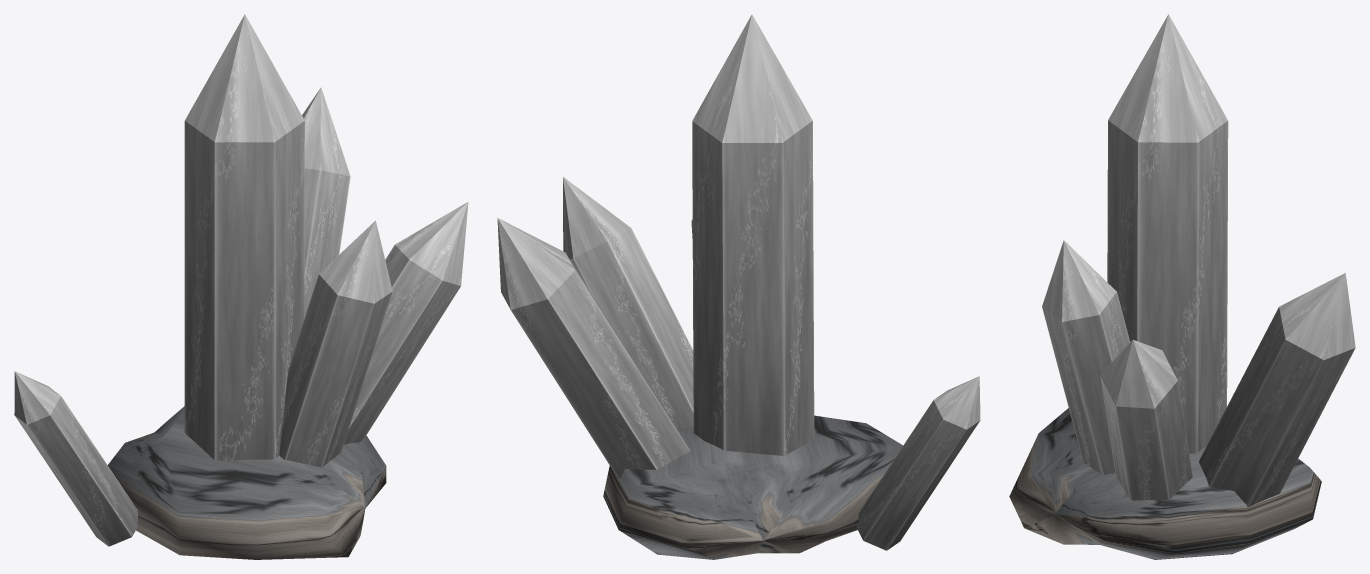
The model's file is rock_crystal_l1.gltf.
The picture shows the model from 3 angles, left to right: view 1: azimuth 30°, elevation 25°; view 2: azimuth 150°, elevation 25°; view 3: azimuth 270°, elevation 25°; orthographic projection.
Visible parts, largest first — view 1: rock_crystal_l1; view 2: rock_crystal_l1; view 3: rock_crystal_l1.
Part boxes in pixels (x1,y1,x2,y2): rock_crystal_l1: (14, 14, 468, 559); rock_crystal_l1: (497, 14, 980, 559); rock_crystal_l1: (1009, 14, 1355, 559).
Bounding box in the file's own units: 1.5 × 1.66 × 1.04.
Materials: 2 (2 with a texture image).
